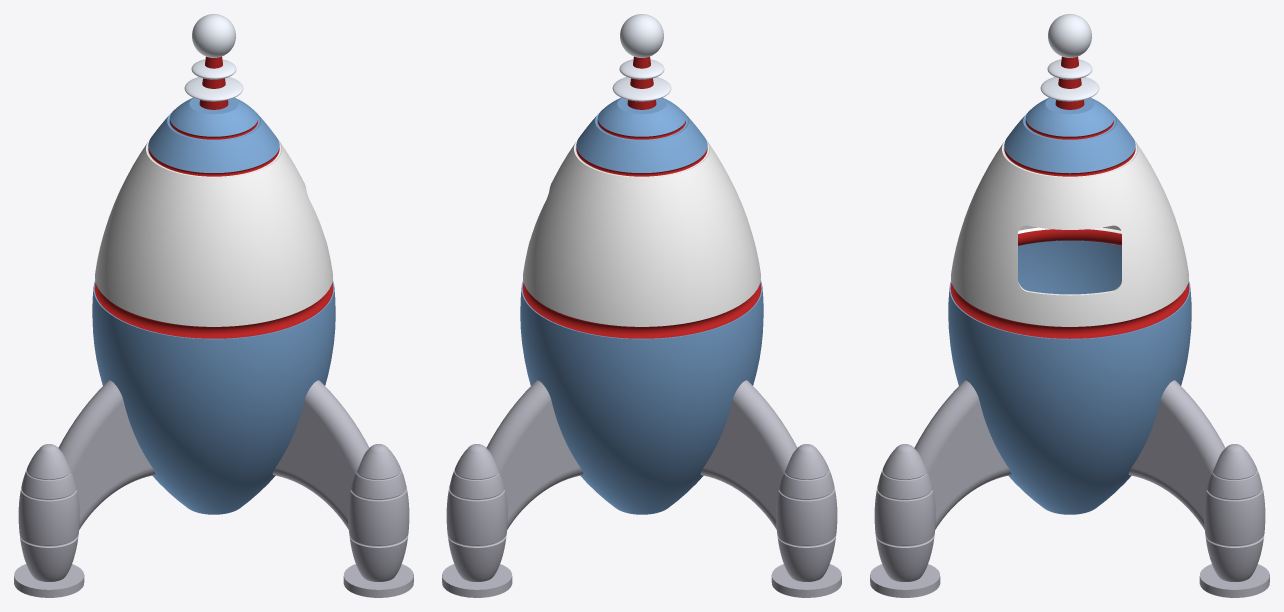
File: rocket_for_child_toy_printing_painted.glb
The picture shows the model from 3 angles, left to right: view 1: azimuth 30°, elevation 25°; view 2: azimuth 150°, elevation 25°; view 3: azimuth 270°, elevation 25°; orthographic projection.
Parts seen in each view (by area): view 1: rocket_for_child_toy_printing_painted; view 2: rocket_for_child_toy_printing_painted; view 3: rocket_for_child_toy_printing_painted.
Boxes of the visible parts, x1=… form: rocket_for_child_toy_printing_painted: x1=14, y1=14, x2=413, y2=597; rocket_for_child_toy_printing_painted: x1=442, y1=14, x2=841, y2=597; rocket_for_child_toy_printing_painted: x1=870, y1=14, x2=1269, y2=597.
Size of the model in its own units: 0.0682 by 0.1116 by 0.0767.
